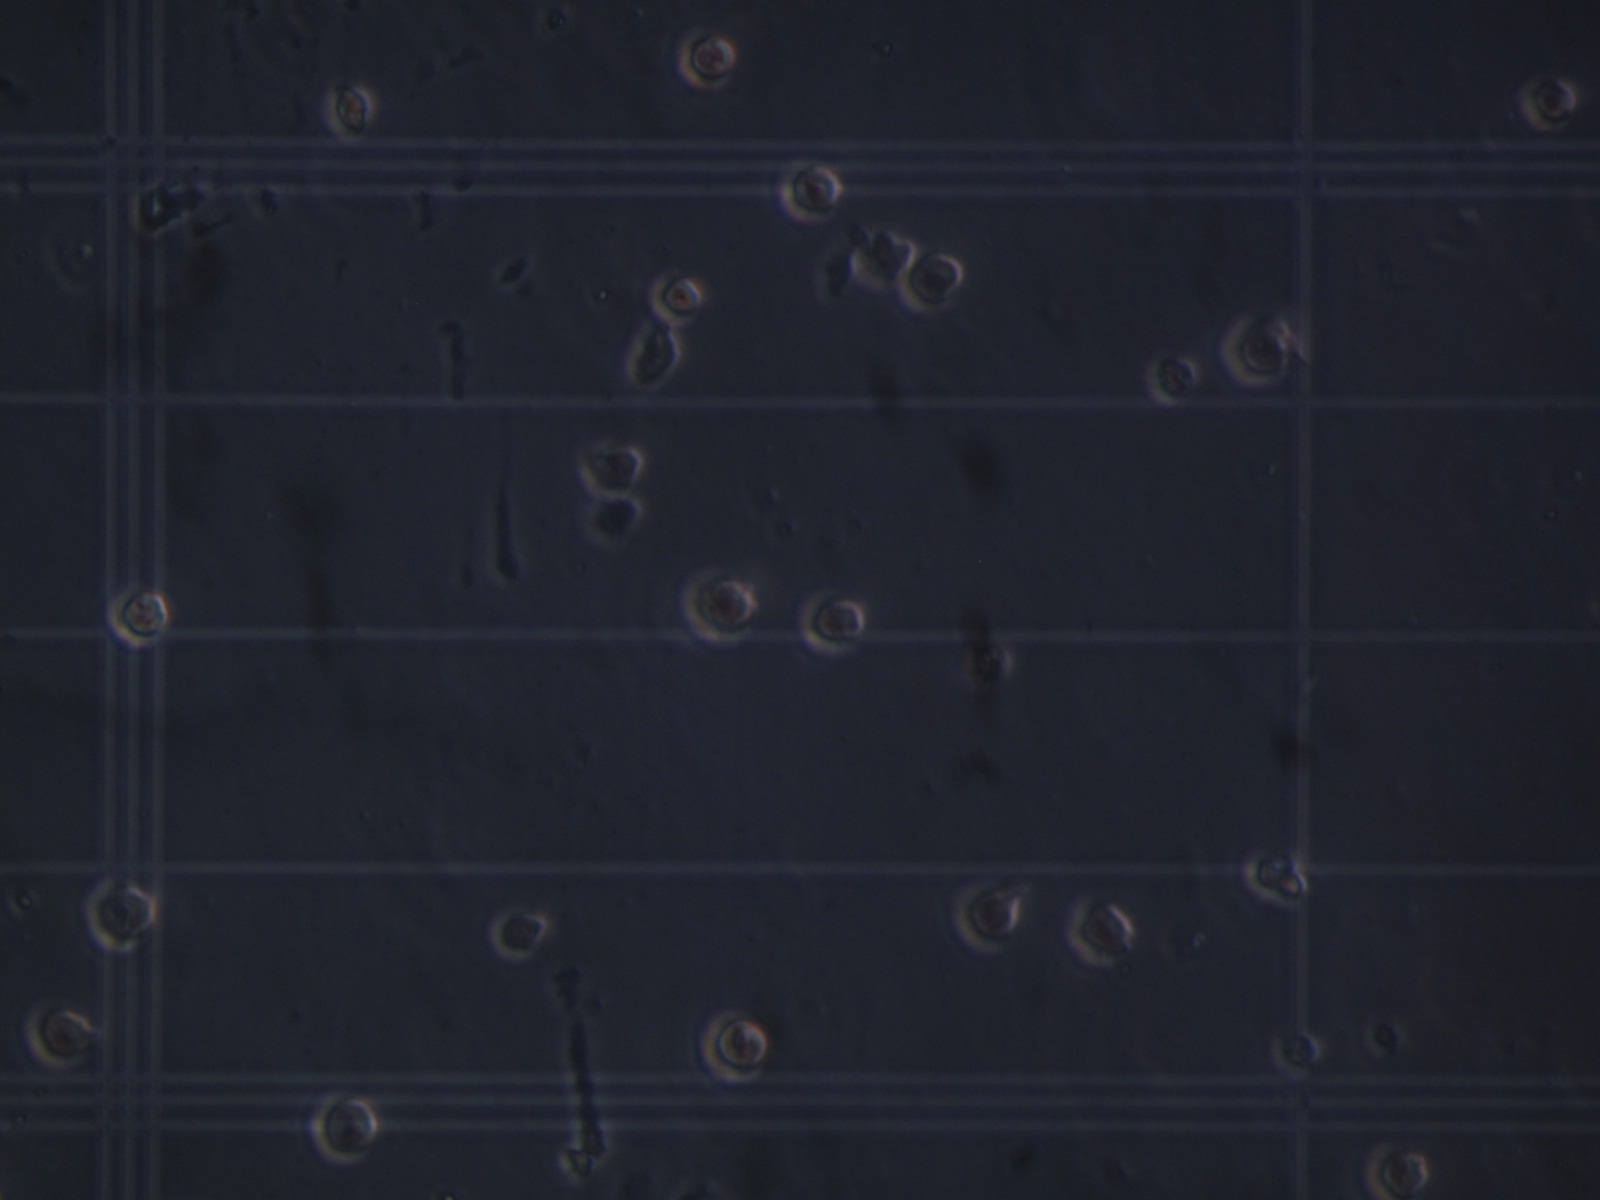hemo: (682, 566, 757, 650), (700, 1005, 771, 1088), (1220, 309, 1291, 389), (88, 874, 157, 957), (24, 997, 98, 1071), (307, 1088, 377, 1166), (952, 879, 1022, 957), (1066, 894, 1133, 971), (797, 586, 867, 657), (777, 156, 843, 229), (896, 251, 964, 316), (1361, 1139, 1430, 1200), (852, 227, 915, 292), (677, 24, 736, 93), (627, 316, 682, 391), (107, 584, 169, 648), (1519, 69, 1579, 136), (488, 903, 549, 964), (648, 265, 703, 329), (321, 78, 373, 146), (582, 495, 643, 553), (583, 442, 644, 497), (1145, 353, 1199, 407), (1272, 1024, 1324, 1079), (1249, 843, 1293, 894), (965, 644, 1015, 688), (1274, 870, 1314, 916)
